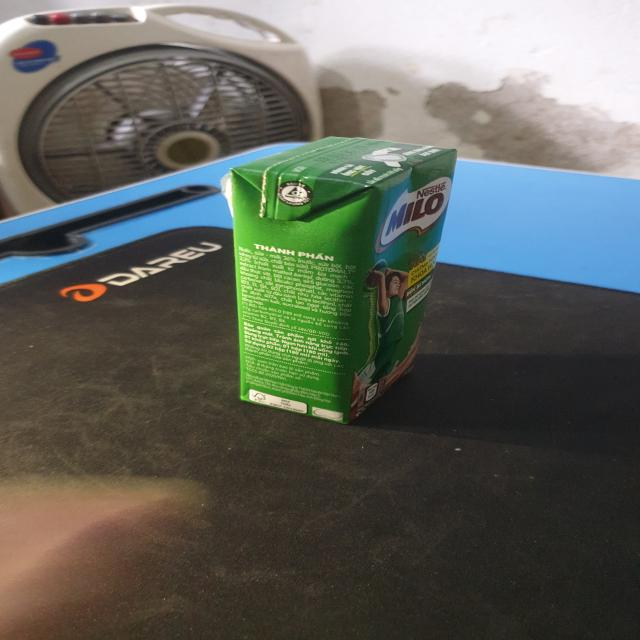Milo: (223, 136, 467, 429)
